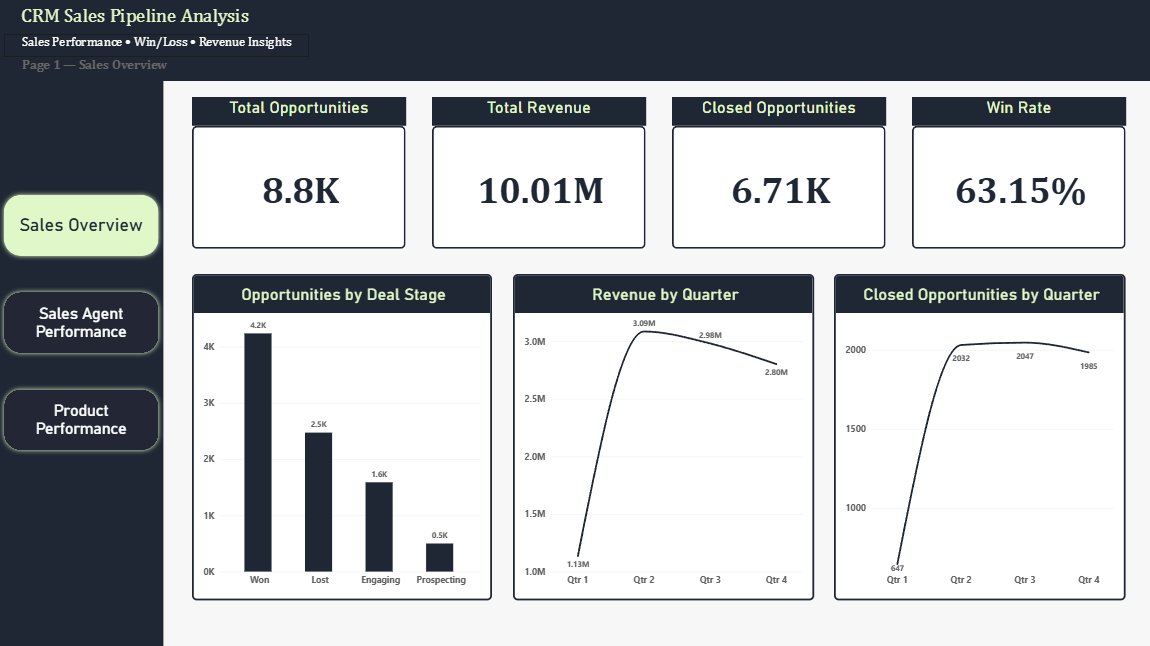

What the dashboard file says about the page in this screenshot:
{"tool":"powerbi","page":{"name":"Sales Overview","canvas":[1920,1080],"ordinal":0},"visuals":[{"type":"shape","box":[0,80,274,1000],"z":0},{"type":"shape","box":[0,0,1920,136.7],"z":1000},{"type":"textbox","box":[20,8.9,412.8,41.1],"z":2000},{"type":"textbox","box":[8.8,57.5,508.3,38.3],"z":3000},{"type":"cardVisual","title":"Total Opportunities","fields":{"Data":["sales_pipeline.Total Oppurtunities"]},"box":[321.7,163.3,356.7,253],"z":4000},{"type":"cardVisual","title":"Total Revenue","fields":{"Data":["sales_pipeline.Total Revenue"]},"box":[721.7,163.3,356.7,253.3],"z":5000},{"type":"cardVisual","title":"Closed Opportunities","fields":{"Data":["sales_pipeline.Closed Opportunities"]},"box":[1121.7,163.3,356.7,253.3],"z":6000},{"type":"cardVisual","title":"Win Rate","fields":{"Data":["sales_pipeline.Percentage Of Won"]},"box":[1521.7,163.3,356.7,253.3],"z":7000},{"type":"clusteredColumnChart","title":"Opportunities by Deal Stage","fields":{"Category":["sales_pipeline.deal_stage"],"Y":["sales_pipeline.Total Oppurtunities"]},"box":[322,458,500,544],"z":8000},{"type":"lineChart","title":"Revenue by Quarter","fields":{"Category":["sales_pipeline.close_date.Variation.Date Hierarchy.Quarter"],"Y":["sales_pipeline.Total Revenue"]},"box":[856,458,502,544],"z":9000},{"type":"lineChart","title":"Closed Opportunities by Quarter","fields":{"Category":["sales_pipeline.deal_stage","sales_pipeline.close_date.Variation.Date Hierarchy.Quarter"],"Y":["sales_pipeline.Closed Opportunities"]},"box":[1392,458,486,544],"z":10000},{"type":"pageNavigator","box":[0,318,274,444],"z":11000},{"type":"textbox","box":[37.5,96.2,508.3,38.3],"z":12000}]}

Visuals, with their boxes in screenshot pixels (x1, y1, x2, y2), scaled from the page's 1920x1080 canvas onto the 1150x646 screenshot:
shape: <box>0,48,164,645</box>
shape: <box>0,0,1149,82</box>
textbox: <box>12,5,259,30</box>
textbox: <box>5,34,310,57</box>
"Total Opportunities" cardVisual: <box>193,98,406,249</box>
"Total Revenue" cardVisual: <box>432,98,646,249</box>
"Closed Opportunities" cardVisual: <box>672,98,886,249</box>
"Win Rate" cardVisual: <box>911,98,1125,249</box>
"Opportunities by Deal Stage" clusteredColumnChart: <box>193,274,492,599</box>
"Revenue by Quarter" lineChart: <box>513,274,813,599</box>
"Closed Opportunities by Quarter" lineChart: <box>834,274,1125,599</box>
pageNavigator: <box>0,190,164,456</box>
textbox: <box>22,58,327,80</box>
